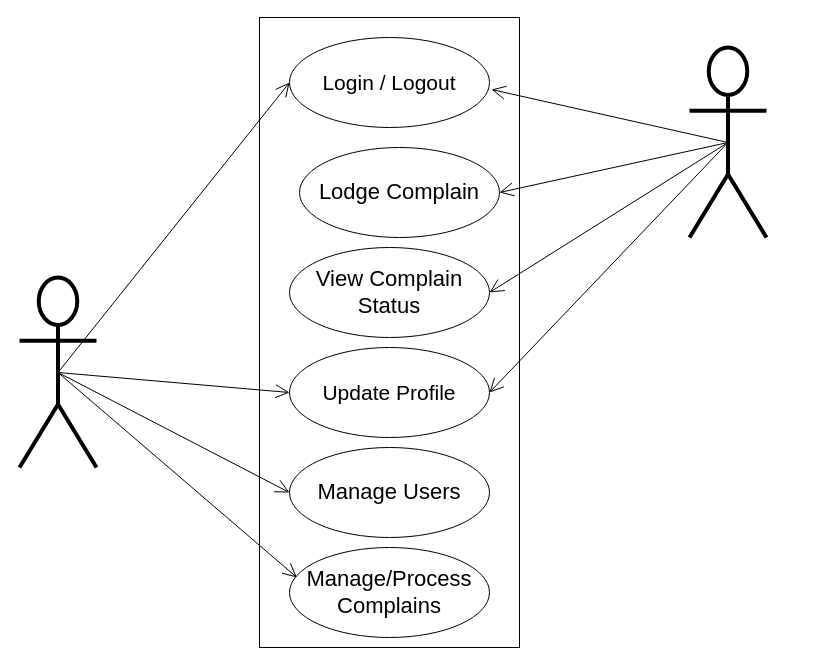
This 818x665 diagram has some shape labels left out. Each missing label, with the box of its shape:
Admin: (17, 275, 98, 469)
Users (student): (687, 45, 768, 239)
